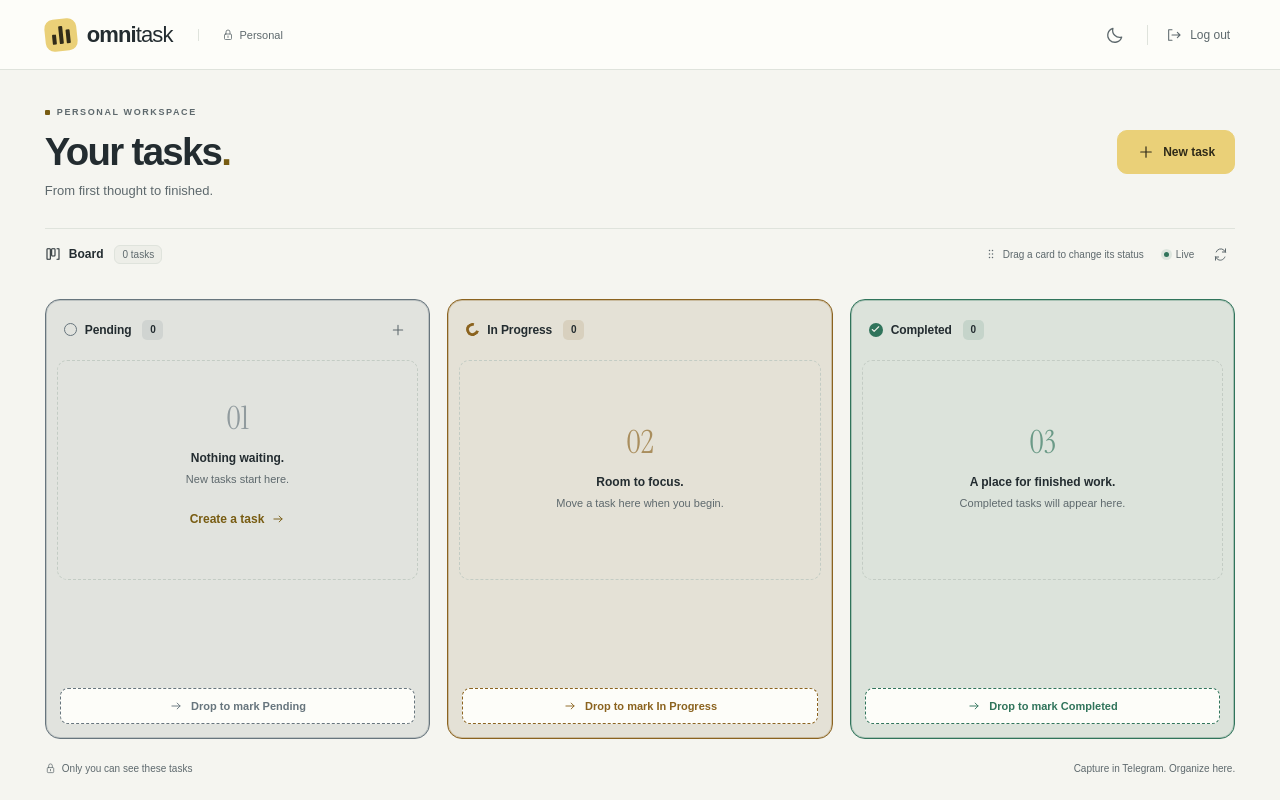
Test: private dashboard › creates through the API and shows new-task feedback without sample content
The image size is (1280, 800).
expect the text "Nothing waiting." is shown: met, box [191, 451, 284, 465]
Step 1. Click the button "New task" → (1176, 152), box [1117, 130, 1235, 174]
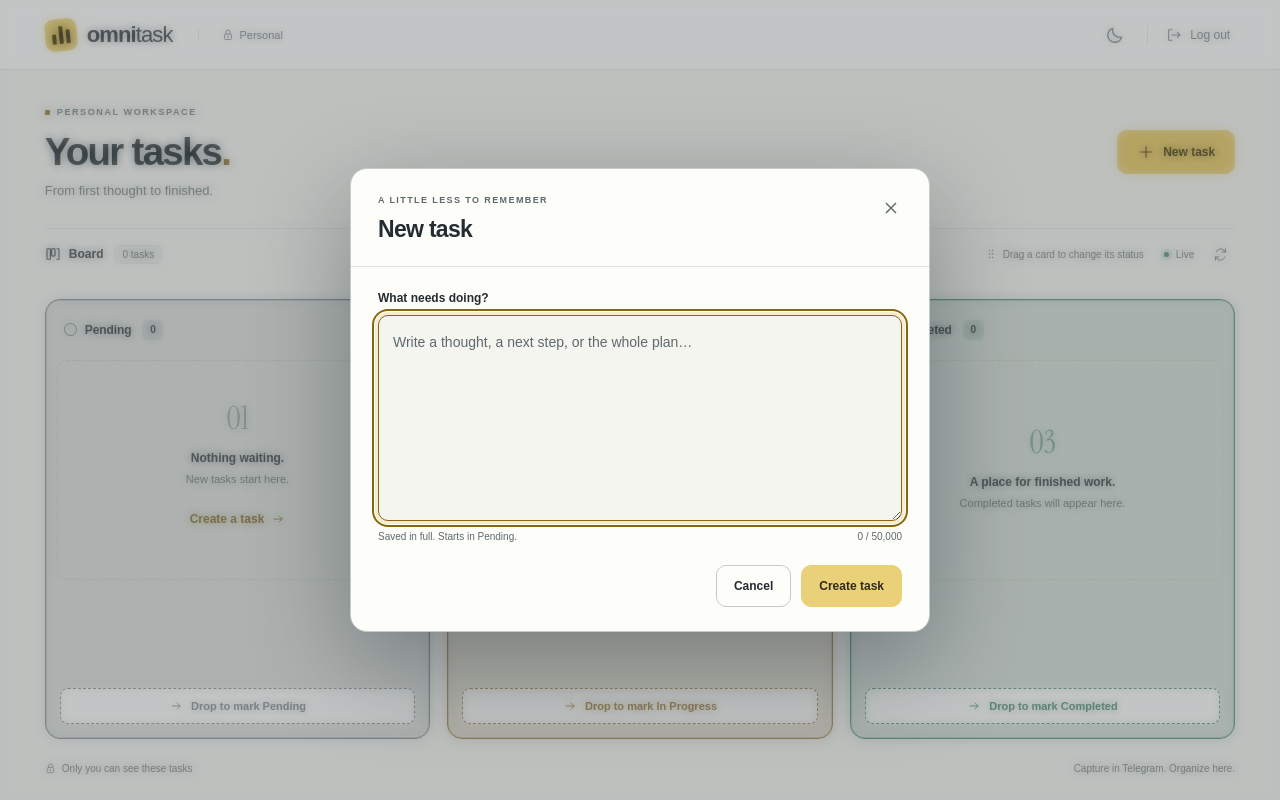
Step 2. Type "New real submission" into the text box labelled "What needs doing?" → (640, 418), box [378, 315, 902, 521]
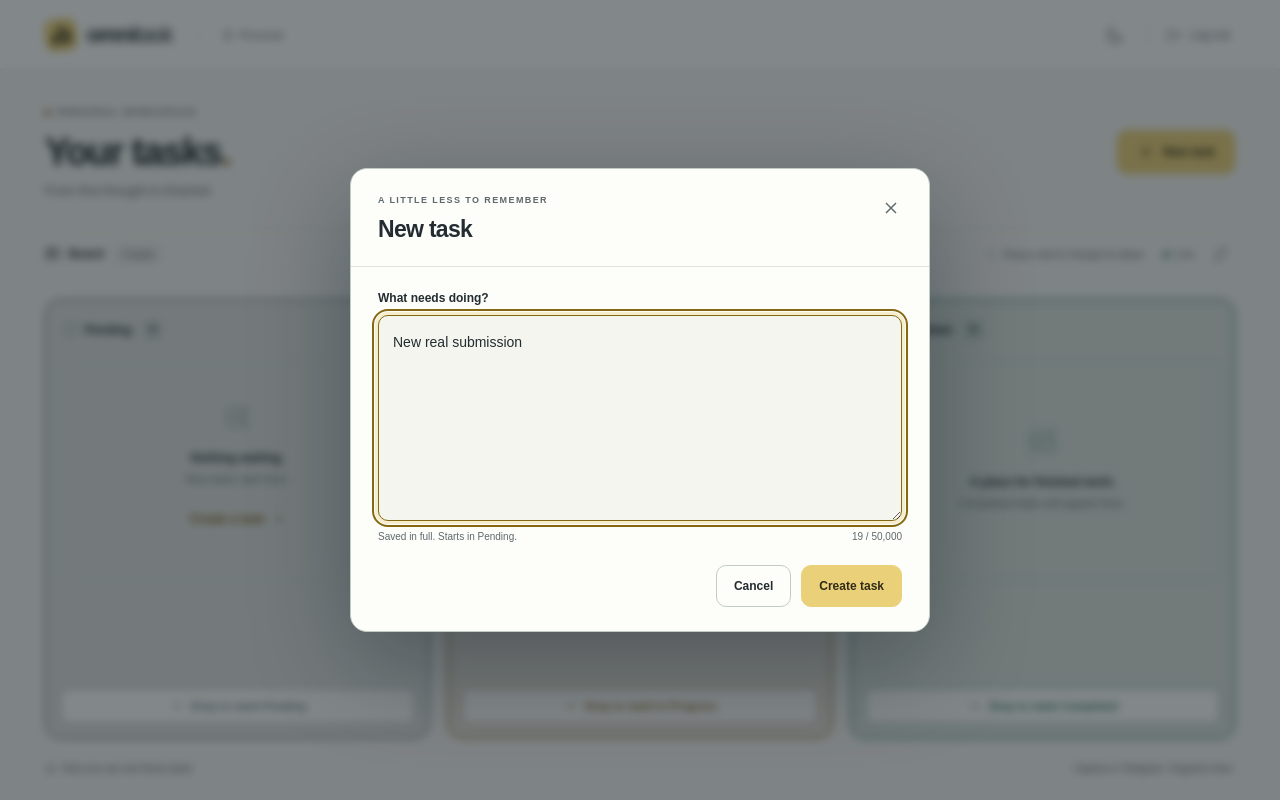
Step 3. Click the button "Create task" → (852, 586), box [801, 565, 902, 607]
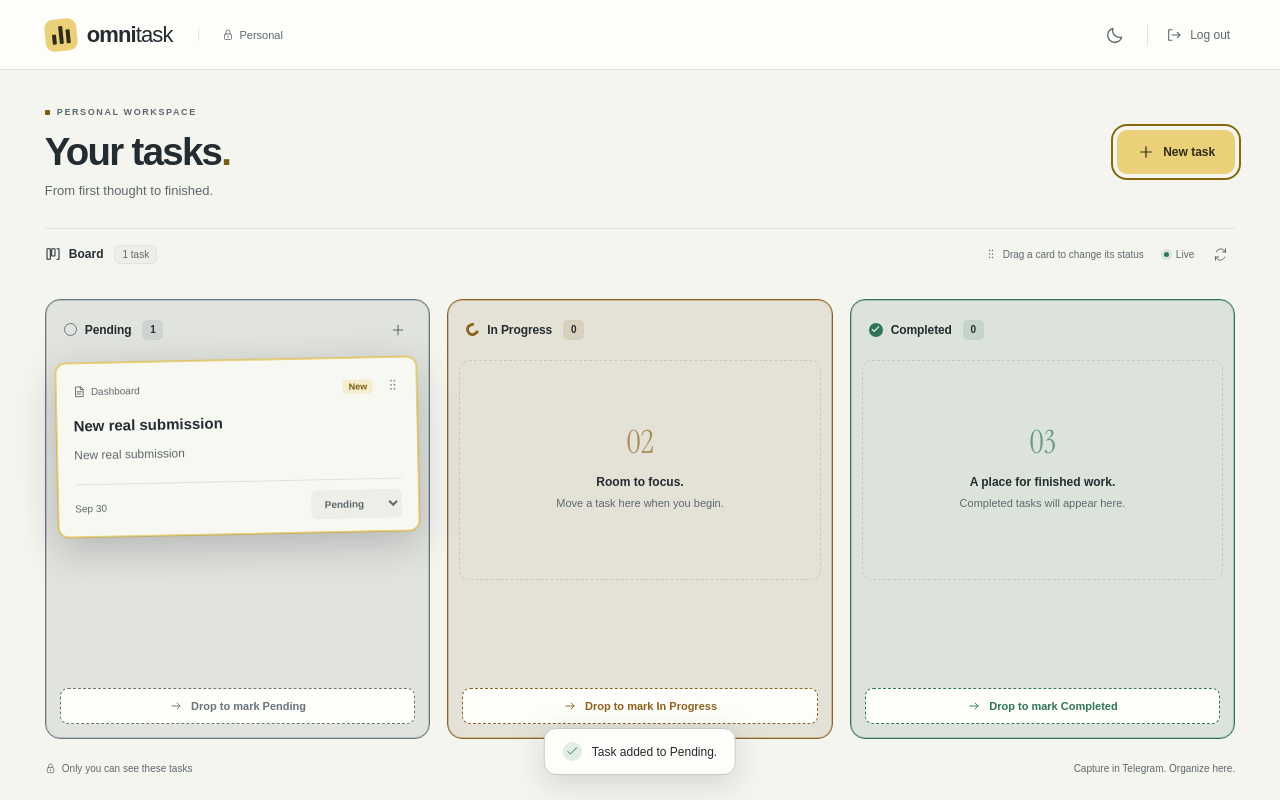
expect the button "New real submission" is shown: met, box [73, 408, 401, 438]
